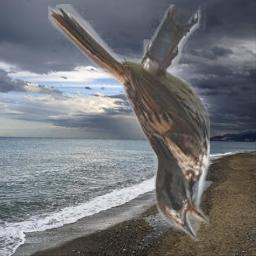Sparrow: (48, 4, 210, 241)
